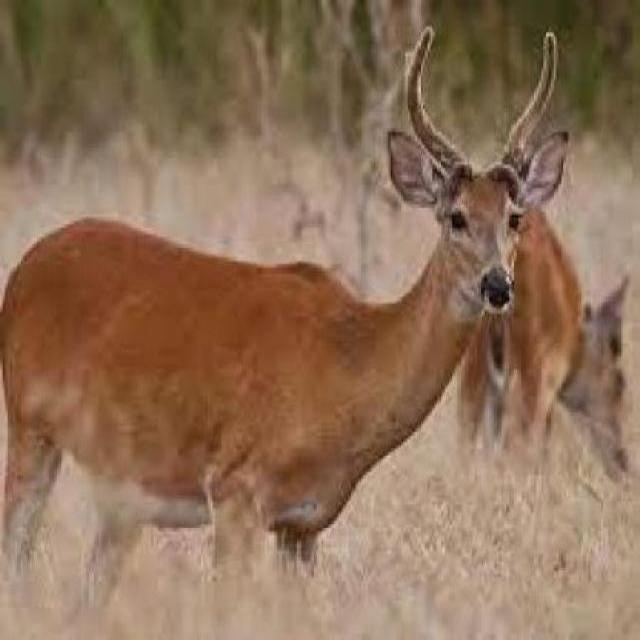deer: (2, 31, 582, 601), (296, 64, 298, 67)
